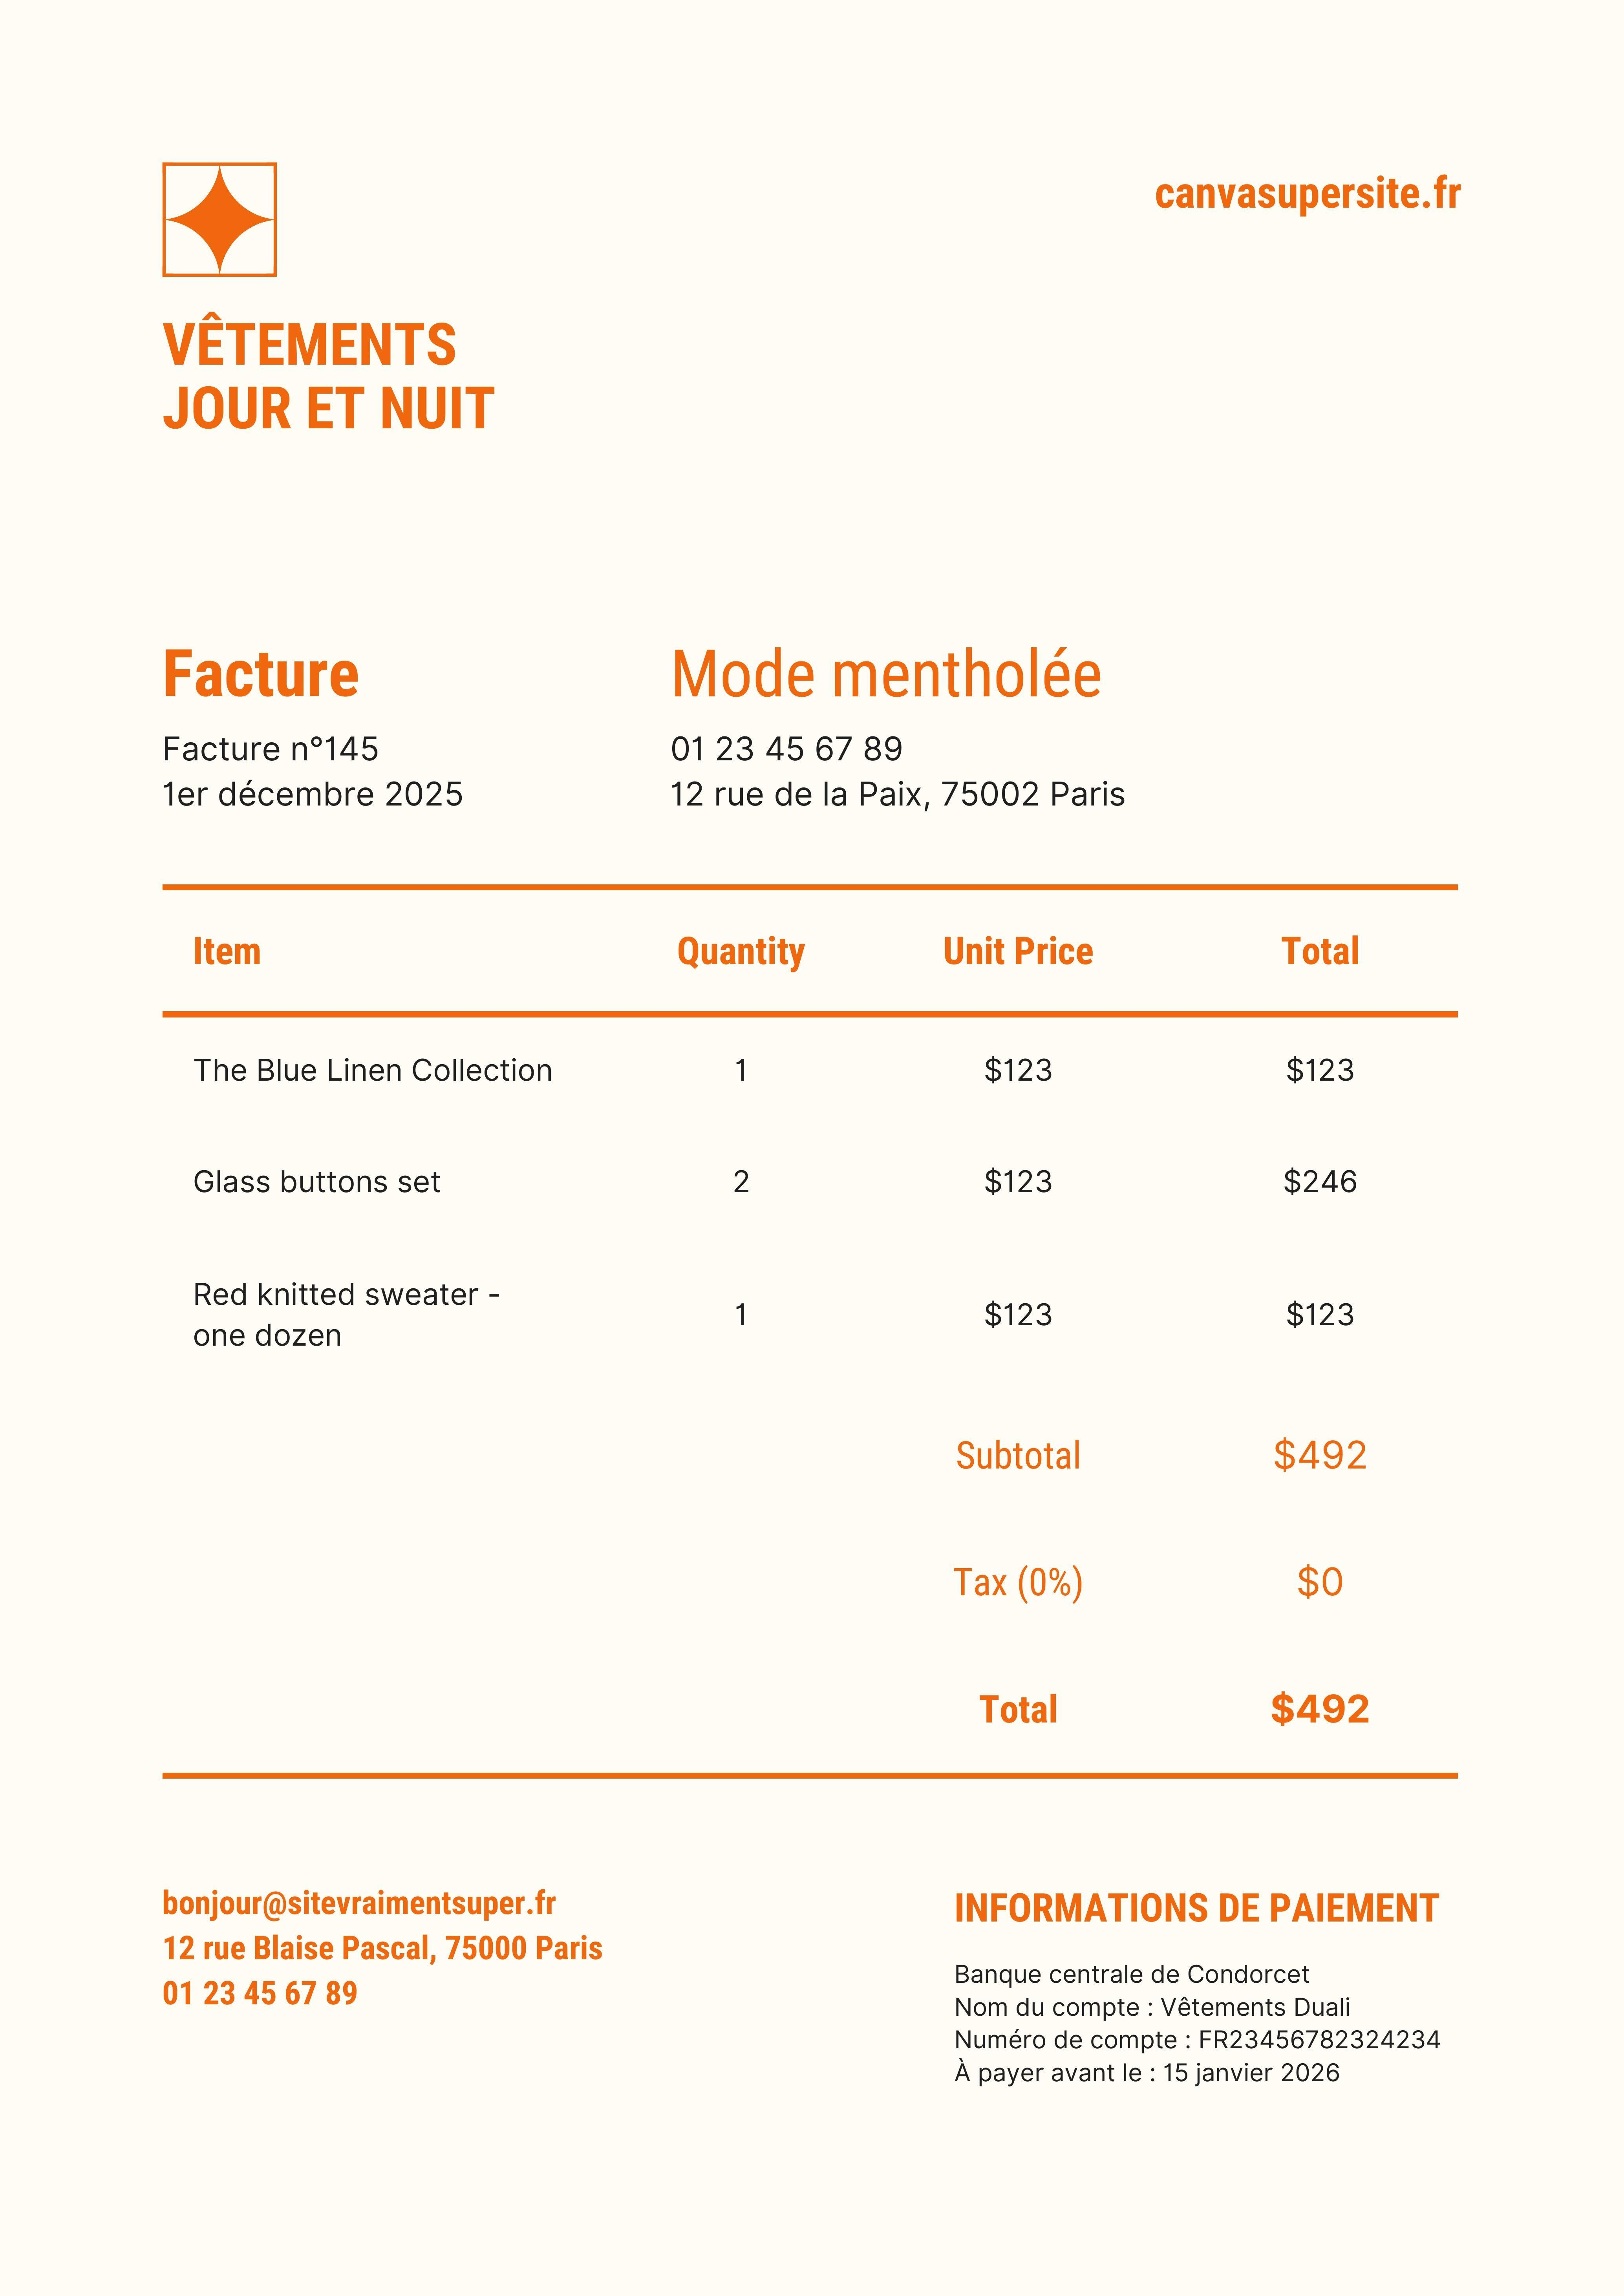ROI: (160, 892, 1461, 1372), (939, 1412, 1422, 1765), (912, 1839, 1473, 2131), (647, 620, 1160, 840), (146, 620, 489, 826), (132, 292, 561, 453)
